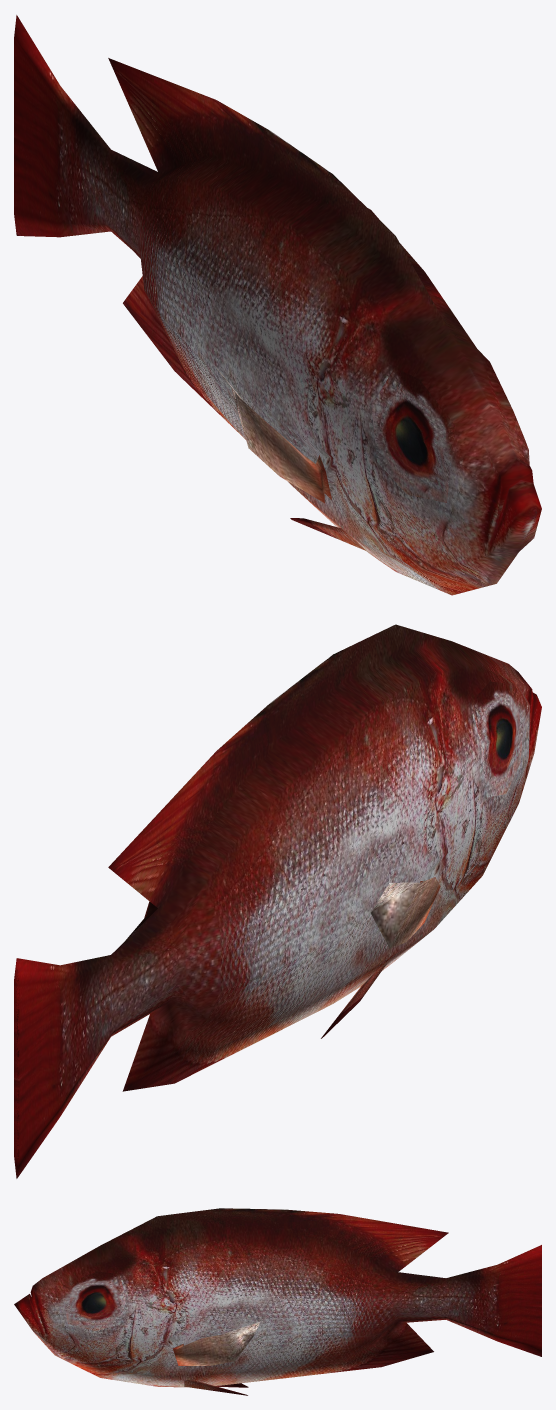
Rendered from fishred.dae.
3 views of the same model, one above another, from view 1: azimuth 30°, elevation 25°; view 2: azimuth 150°, elevation 25°; view 3: azimuth 270°, elevation 25° (orthographic). The views are drawn at different scales.
Parts seen in each view (by area): view 1: fishV1; view 2: fishV1; view 3: fishV1.
Boxes of the visible parts, x1=… form: fishV1: x1=14, y1=15, x2=541, y2=595; fishV1: x1=14, y1=624, x2=541, y2=1178; fishV1: x1=14, y1=1208, x2=541, y2=1395.
Bounding box in the file's own units: 1.78 × 8.39 × 3.21.
1 material, 1 textured.
